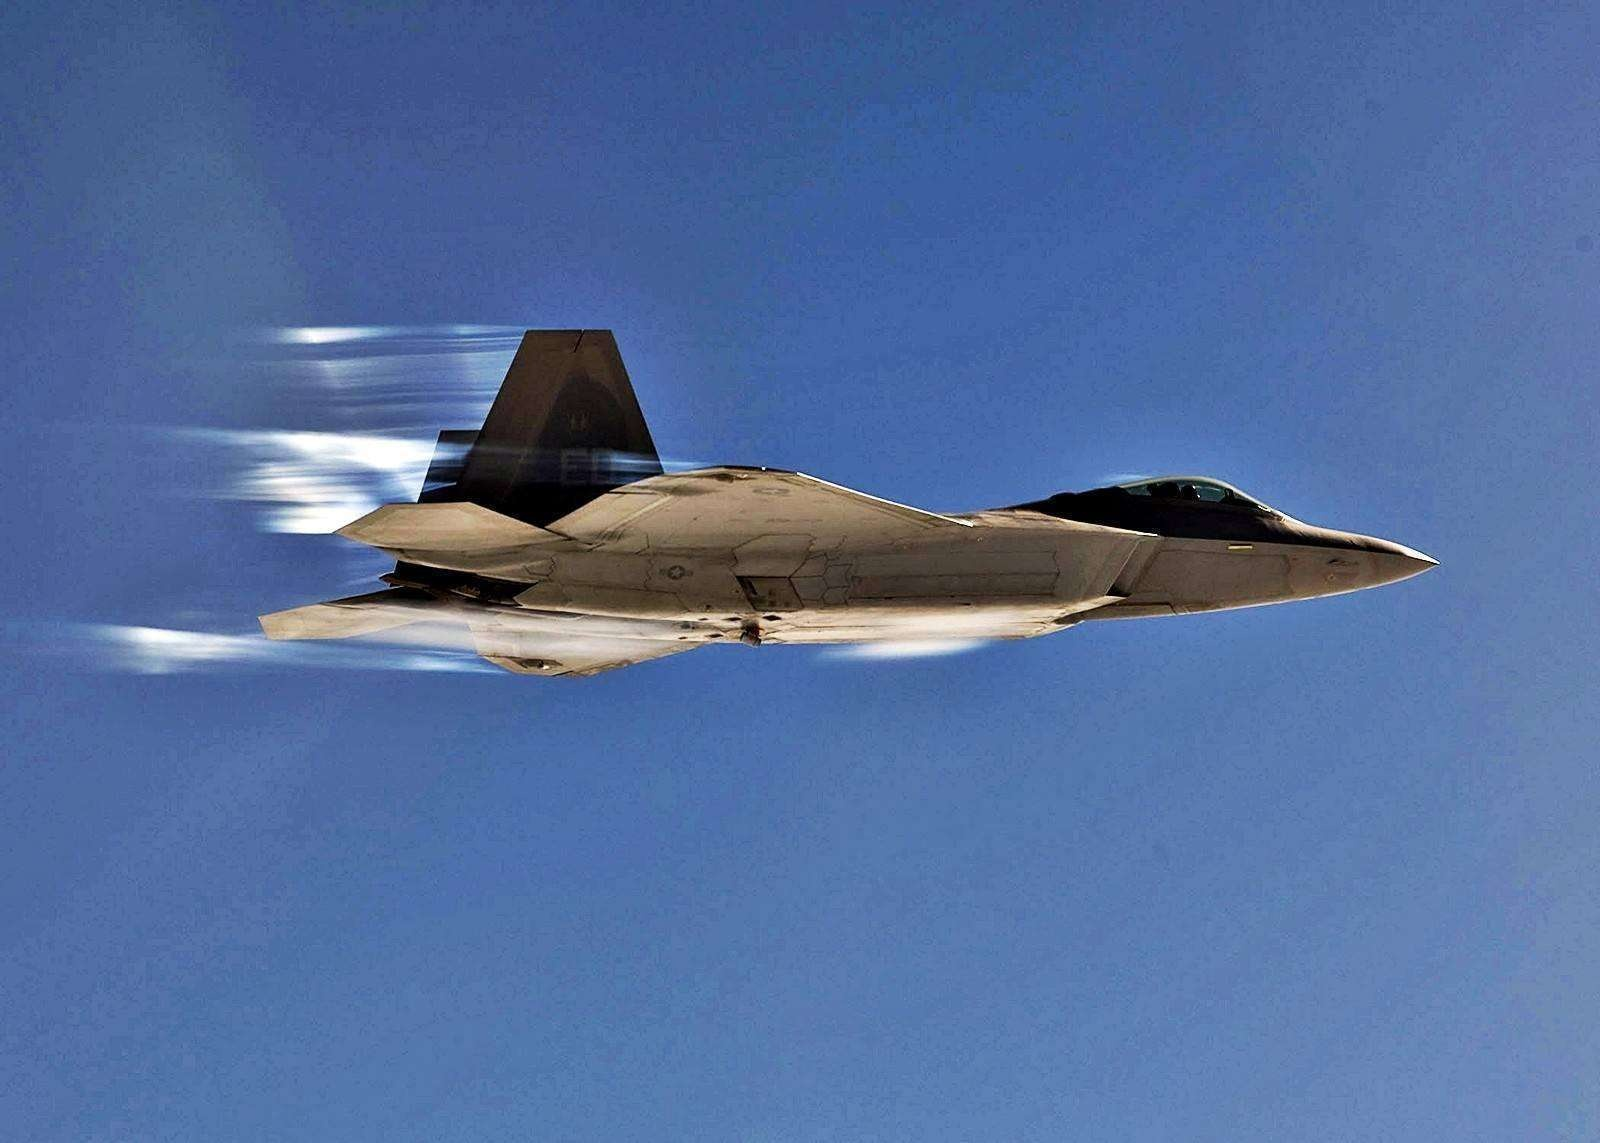airplane: (265, 327, 1436, 694)
